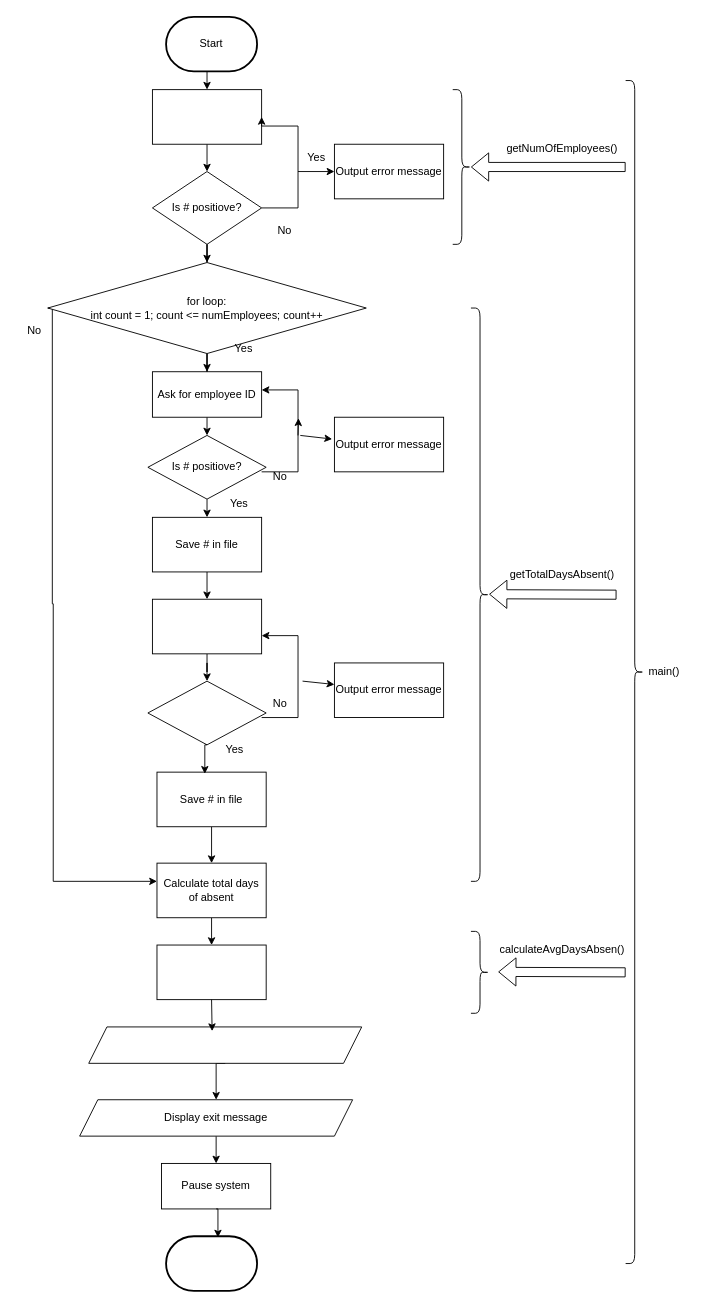
This 706x1307 diagram has some shape labels left out. The centre of each missing label's shape, as x and y in pixels:
Ask for # absent days: point (207, 626)
Ask for # employees: point (207, 116)
Calculate average days of absent: point (211, 972)
Display num employees and averaged # of absent in the file.: point (225, 1044)
Finish: point (211, 1263)
Is # not negative?: point (206, 712)
